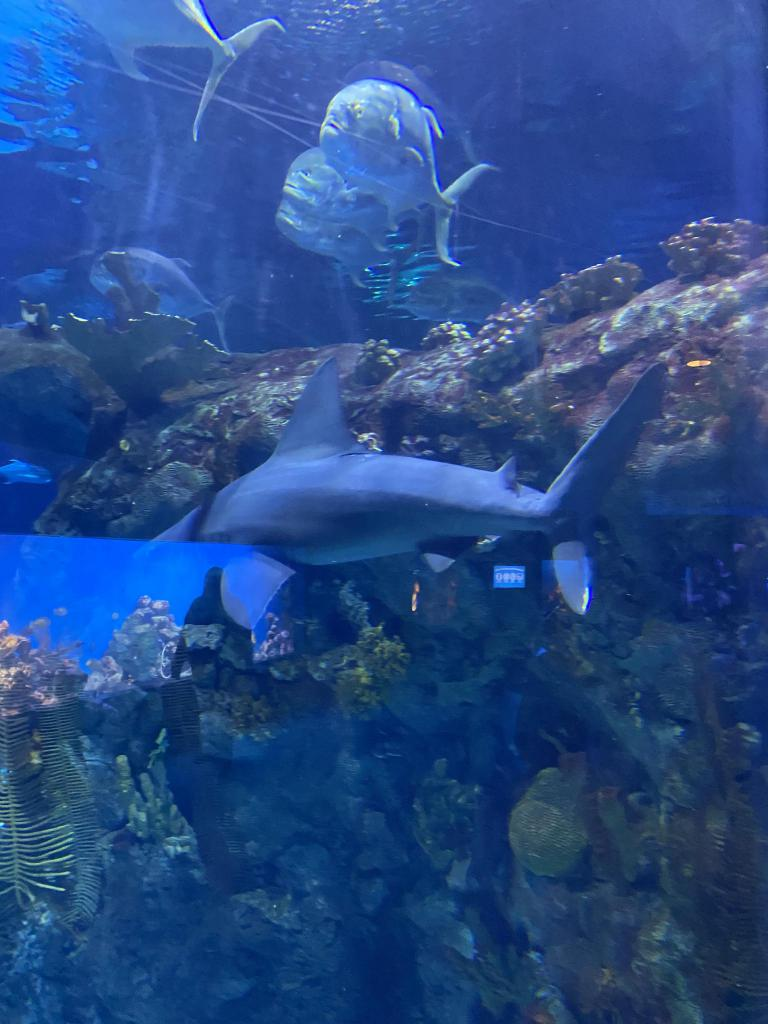fish: (56, 0, 286, 142), (320, 80, 490, 266), (94, 246, 232, 354), (274, 147, 402, 253), (0, 456, 51, 486)
shark: (131, 353, 665, 617)
